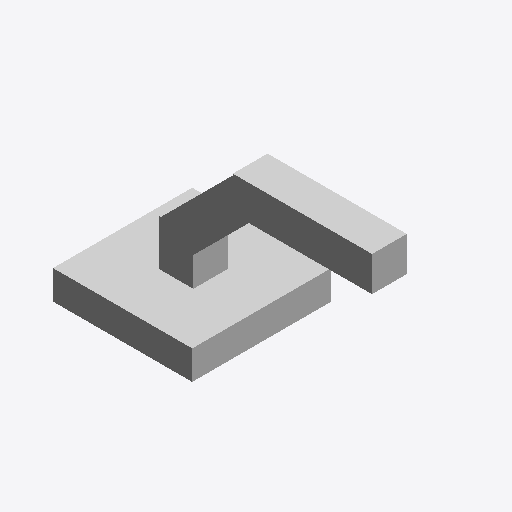
A Minecraft block model of 5 cuboids, rendered isometrically (azimuth 45°, elevation 35.3°) with the resource pack's own textures.
Visible parts, largest first — Shape4, Shape1, Shape2, Shape3.
Part boxes in pixels (x1,y1,x2,y2): Shape4: (53,188,330,381); Shape1: (233,154,406,293); Shape2: (161,176,247,259); Shape3: (159,196,227,288).
Size of the model in its own units: 6 by 6.65 by 11.5.